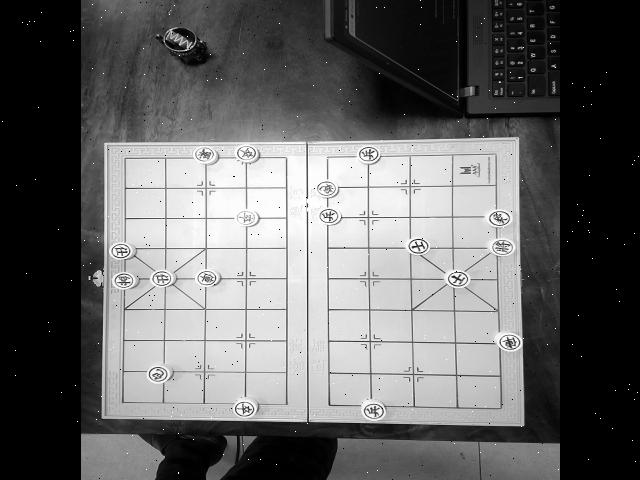piece: (493, 331, 522, 351), (360, 399, 385, 420), (484, 209, 512, 227), (146, 364, 172, 383), (487, 238, 514, 256), (443, 270, 470, 288), (233, 397, 257, 417), (194, 269, 220, 287), (108, 242, 135, 259), (111, 272, 138, 289), (192, 146, 217, 164), (149, 270, 175, 287), (357, 145, 380, 164), (234, 145, 258, 163), (234, 209, 258, 227), (405, 238, 429, 255), (318, 208, 340, 225), (316, 181, 338, 197)
